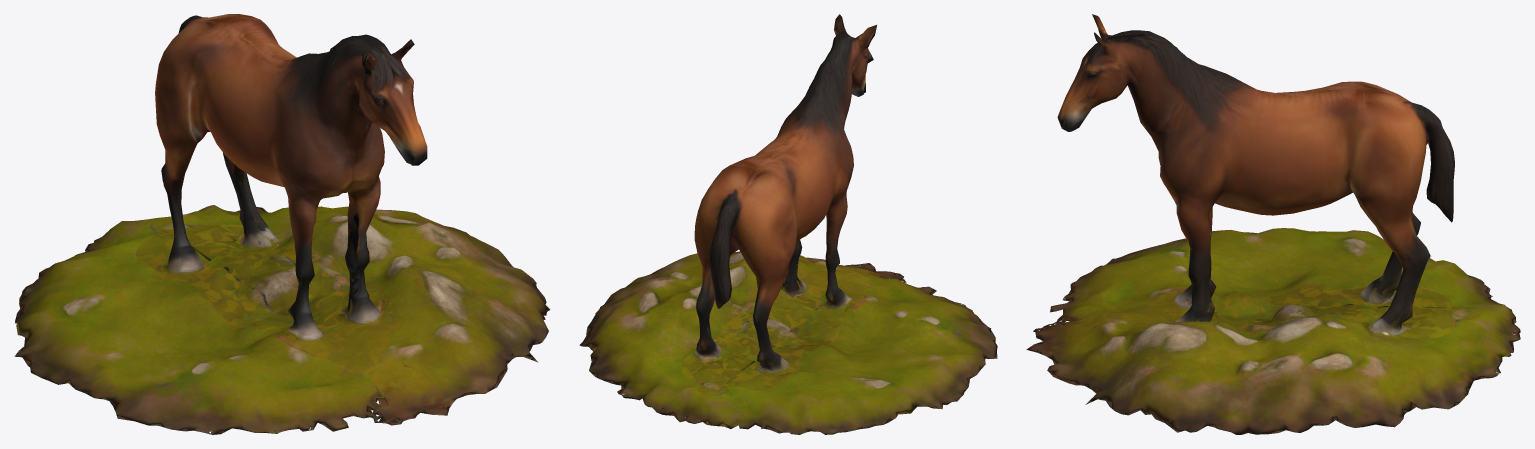
Rendered from tsushima.glb.
3 views of the same model, side by side, from view 1: azimuth 30°, elevation 25°; view 2: azimuth 150°, elevation 25°; view 3: azimuth 270°, elevation 25° (orthographic). The views are drawn at different scales.
Size of the model in its own units: 1.83 by 1.33 by 1.85.
Materials: 1 (1 with a texture image).
